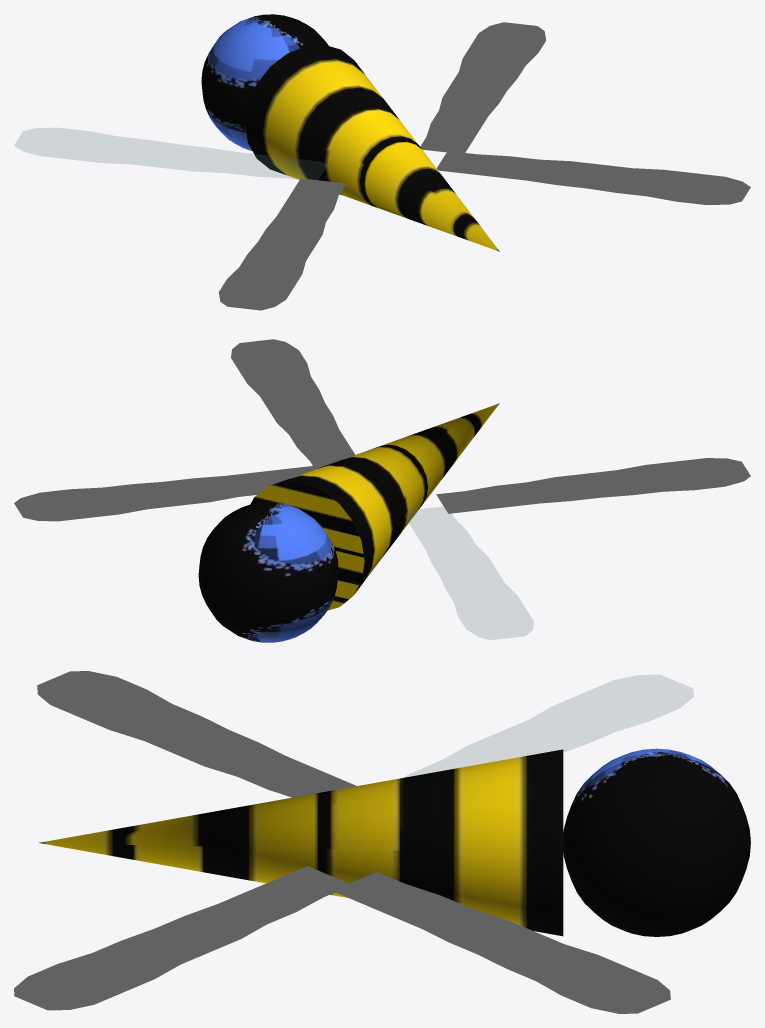
File: Monster3.fbx
3 renders of one model, top to bottom at view 1: azimuth 30°, elevation 25°; view 2: azimuth 150°, elevation 25°; view 3: azimuth 270°, elevation 25°, orthographic. The views are drawn at different scales.
Visible parts, largest first — view 1: pCone1, pPlane2_ncl1_1, pPlane1, pPlane1_ncl1_1, pSphere2, pPlane2; view 2: pCone1, pSphere2, pPlane1, pPlane2, pPlane2_ncl1_1, pPlane1_ncl1_1; view 3: pCone1, pSphere2, pPlane2_ncl1_1, pPlane1_ncl1_1, pPlane1, pPlane2.
Boxes of the visible parts, x1,y1,x2,y2 form: pCone1: (245, 44, 499, 251); pPlane2_ncl1_1: (436, 151, 750, 205); pPlane1: (218, 178, 346, 310); pPlane1_ncl1_1: (420, 22, 545, 154); pSphere2: (201, 14, 328, 150); pPlane2: (14, 128, 326, 179); pCone1: (250, 403, 499, 610); pSphere2: (198, 502, 338, 642); pPlane1: (436, 458, 750, 513); pPlane2: (404, 507, 533, 639); pPlane2_ncl1_1: (231, 339, 354, 467); pPlane1_ncl1_1: (14, 465, 317, 521); pCone1: (39, 749, 563, 936); pSphere2: (563, 748, 750, 936); pPlane2_ncl1_1: (14, 866, 352, 1010); pPlane1_ncl1_1: (332, 872, 670, 1013); pPlane1: (37, 671, 356, 797); pPlane2: (403, 675, 693, 777).
Bounding box in the file's own units: 4.31 × 1 × 3.91.
4 materials, 2 textured.
